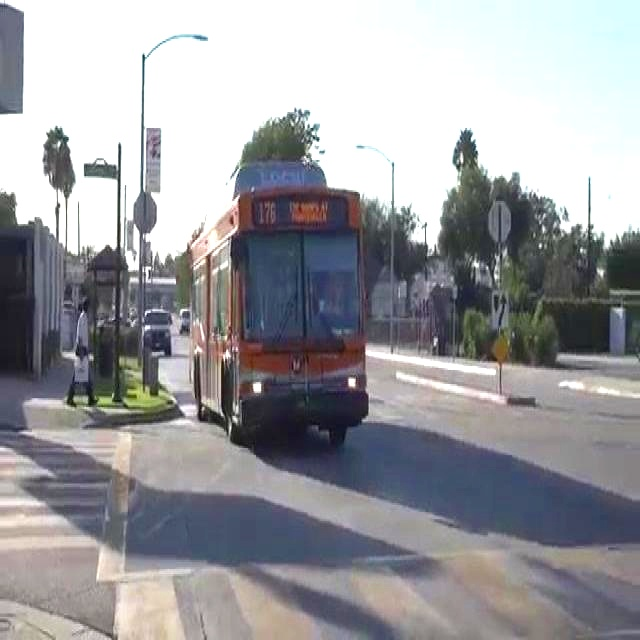bus: (175, 142, 393, 465)
